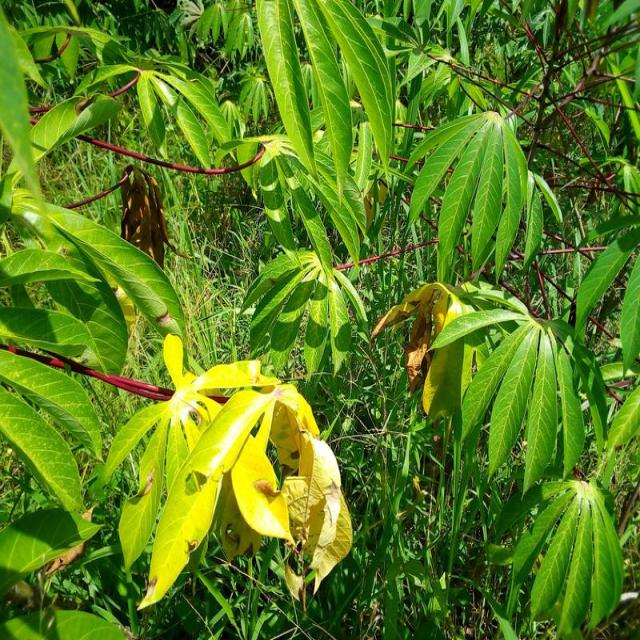cassava leaf: (102, 333, 353, 612), (405, 109, 529, 286)
